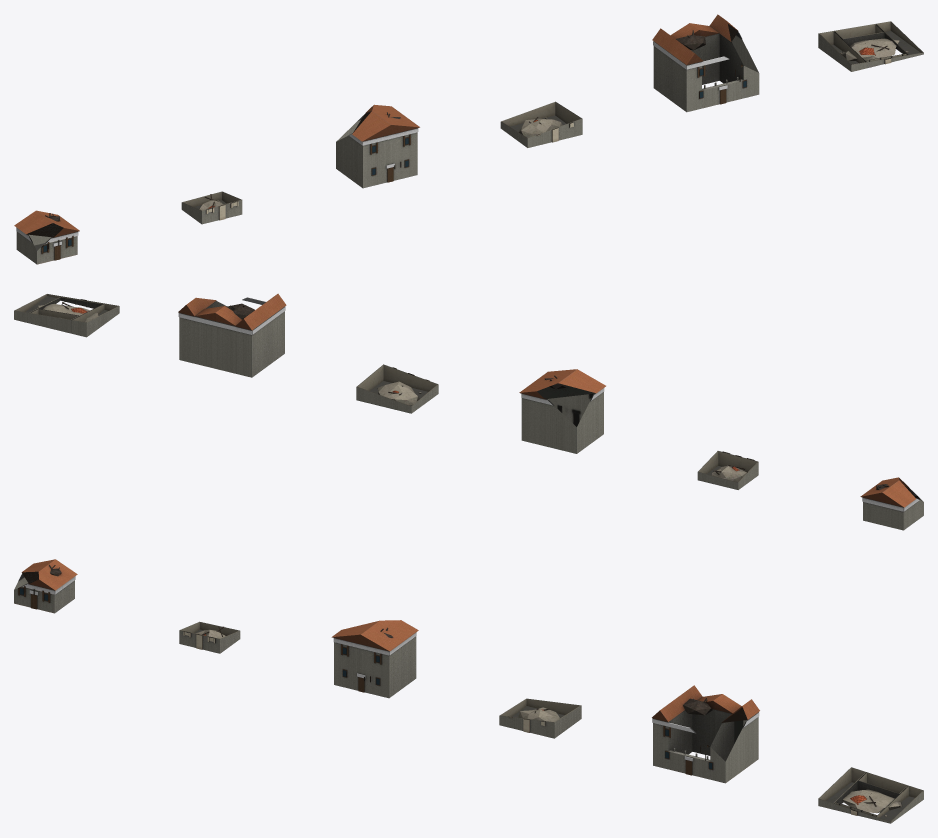
File: gunpowder-americas-houses-damage.glb
3 renders of one model, top to bottom at view 1: azimuth 30°, elevation 25°; view 2: azimuth 150°, elevation 25°; view 3: azimuth 330°, elevation 25°, orthographic.
Parts seen in each view (by area): view 1: LOD0.004, LOD0.002, LOD0.005, LOD0, LOD0.003, LOD0.001; view 2: LOD0.004, LOD0.002, LOD0.005, LOD0.003, LOD0, LOD0.001; view 3: LOD0.004, LOD0.002, LOD0.005, LOD0, LOD0.003, LOD0.001.
Boxes of the visible parts, x1=… form: LOD0.004: x1=652, y1=14, x2=759, y2=112; LOD0.002: x1=336, y1=104, x2=419, y2=188; LOD0.005: x1=818, y1=21, x2=923, y2=71; LOD0: x1=14, y1=210, x2=79, y2=264; LOD0.003: x1=500, y1=101, x2=582, y2=147; LOD0.001: x1=181, y1=191, x2=242, y2=224; LOD0.004: x1=178, y1=293, x2=286, y2=377; LOD0.002: x1=519, y1=369, x2=605, y2=453; LOD0.005: x1=14, y1=294, x2=119, y2=337; LOD0.003: x1=356, y1=364, x2=438, y2=413; LOD0: x1=860, y1=477, x2=923, y2=530; LOD0.001: x1=697, y1=451, x2=758, y2=489; LOD0.004: x1=652, y1=685, x2=759, y2=783; LOD0.002: x1=331, y1=620, x2=418, y2=698; LOD0.005: x1=818, y1=767, x2=923, y2=823; LOD0: x1=14, y1=559, x2=77, y2=613; LOD0.003: x1=499, y1=698, x2=581, y2=738; LOD0.001: x1=179, y1=621, x2=240, y2=653.
Size of what is drawn, in the model's own units: 16.06 by 1.01 by 1.08.
Materials: 2 (2 with a texture image).
